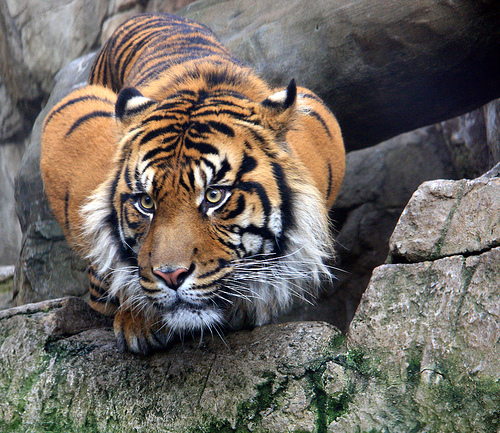Tigre: (45, 21, 364, 354)
